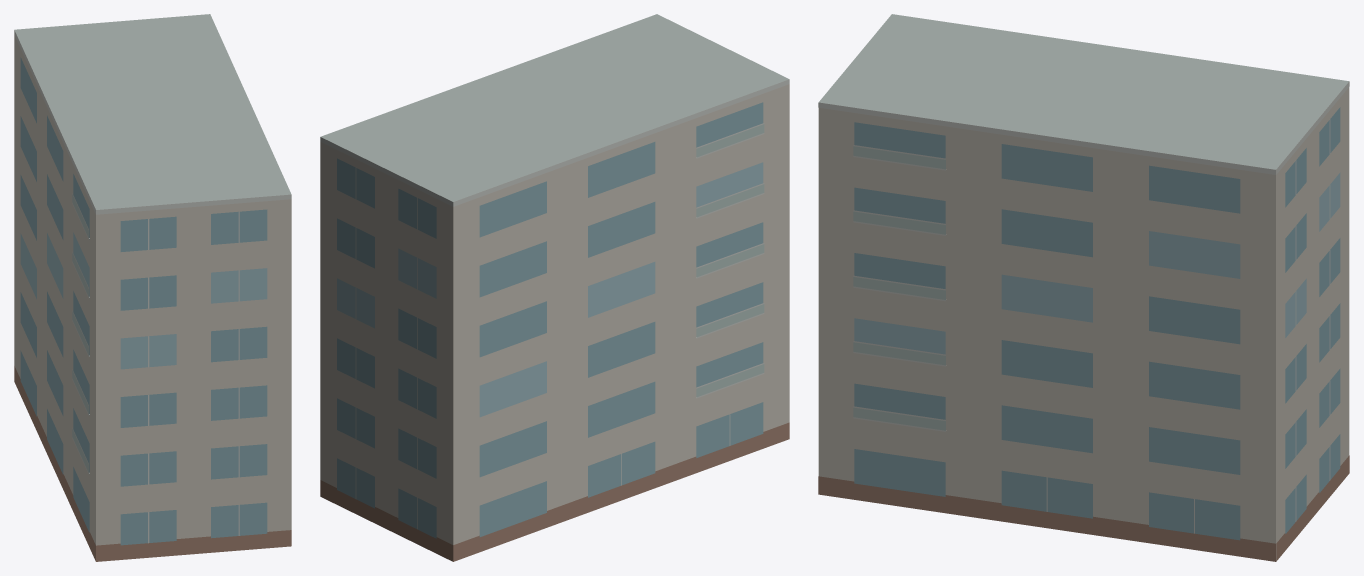
Rendered from survey-upis-32708253.glb.
The picture shows the model from 3 angles, left to right: view 1: azimuth 30°, elevation 25°; view 2: azimuth 150°, elevation 25°; view 3: azimuth 270°, elevation 25°; orthographic projection. The views are drawn at different scales.
Visible parts, largest first — view 1: survey-upis-32708253.tmp; view 2: survey-upis-32708253.tmp; view 3: survey-upis-32708253.tmp.
Boxes of the visible parts, <box> form: survey-upis-32708253.tmp: <box>14,14,291,561</box>; survey-upis-32708253.tmp: <box>320,14,789,561</box>; survey-upis-32708253.tmp: <box>818,14,1349,561</box>.
Bounding box in the file's own units: 15.61 × 18.3 × 22.47.
